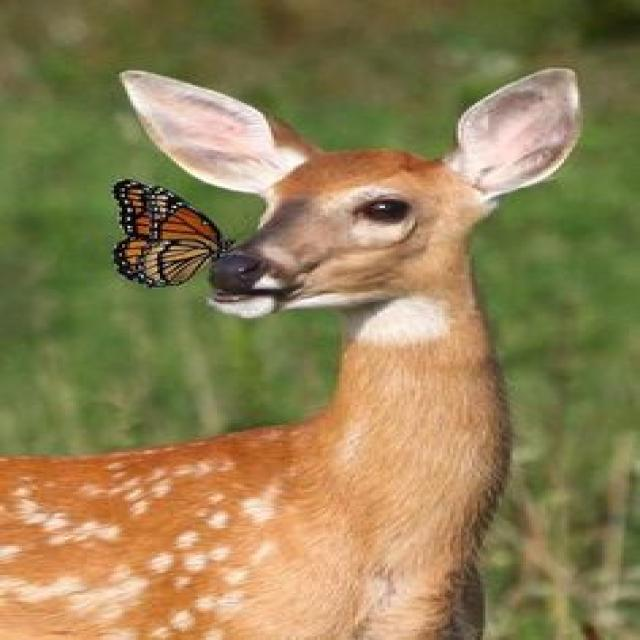Herbivorous: (0, 67, 583, 640), (111, 181, 222, 289)
